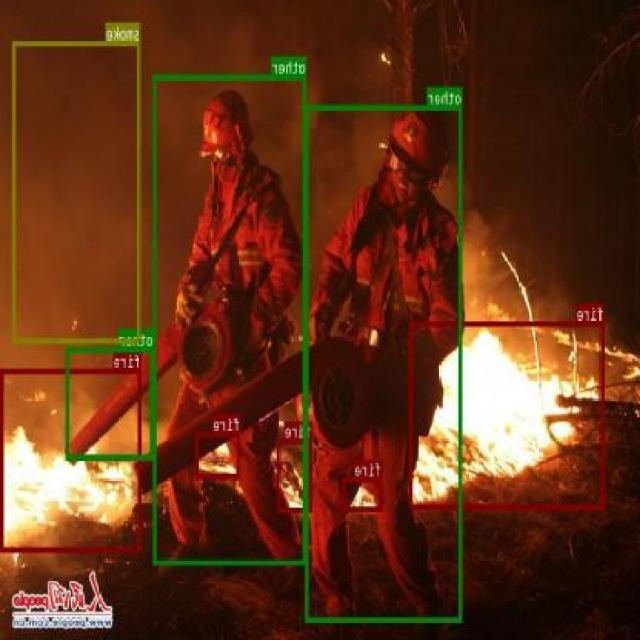Fire: (410, 320, 606, 508), (2, 368, 142, 552), (278, 438, 313, 512), (196, 431, 241, 478), (343, 476, 383, 512)
Smoke: (12, 40, 142, 342)
